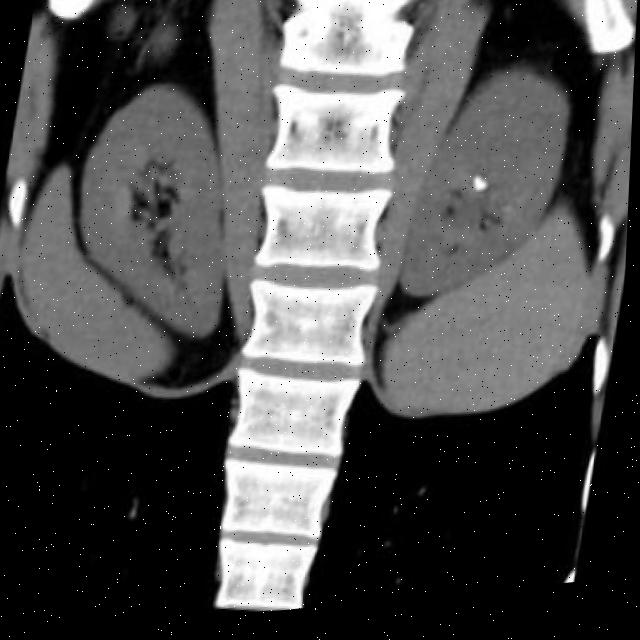Tas_Var: (470, 179, 493, 206)
